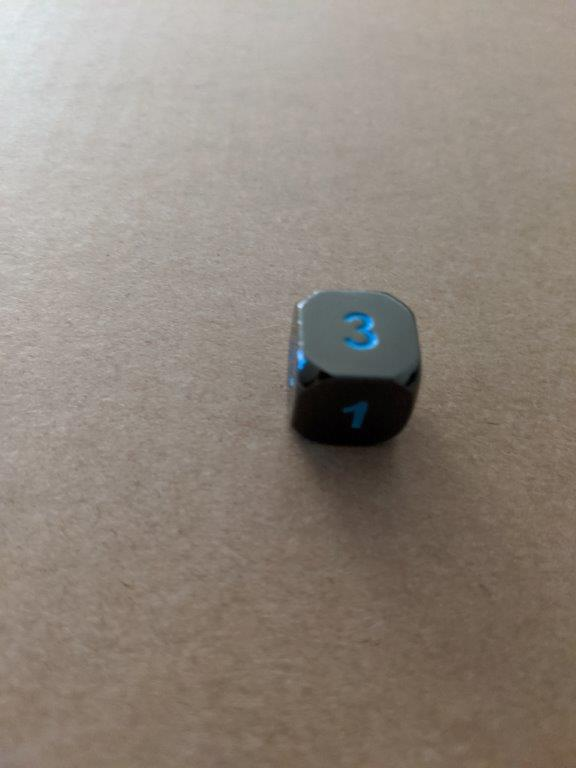d6-3: (285, 290, 424, 445)
